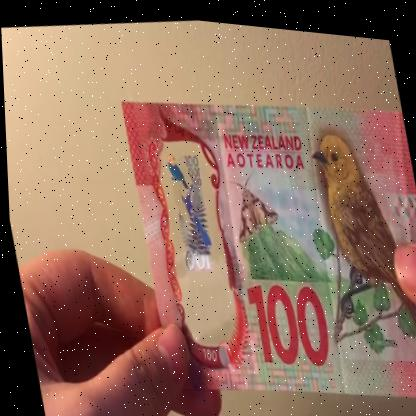100B: (157, 141, 232, 325)
